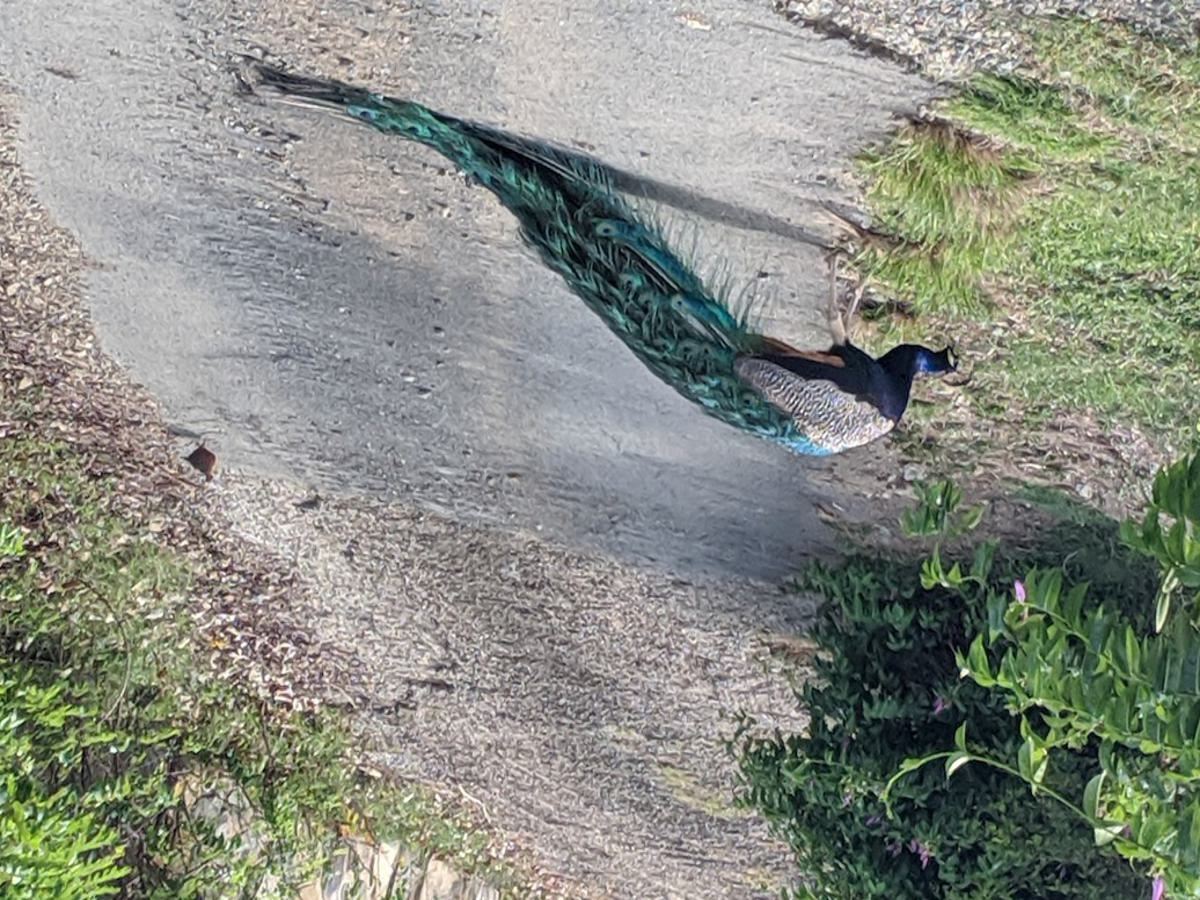peacock: (270, 28, 988, 473)
